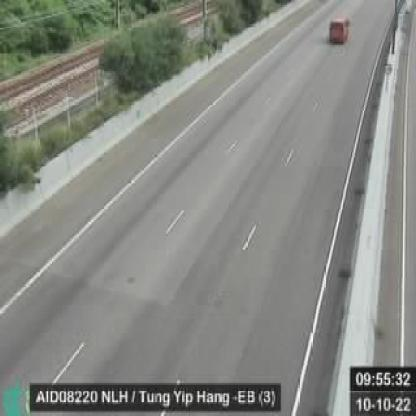Car: (330, 15, 350, 44)
